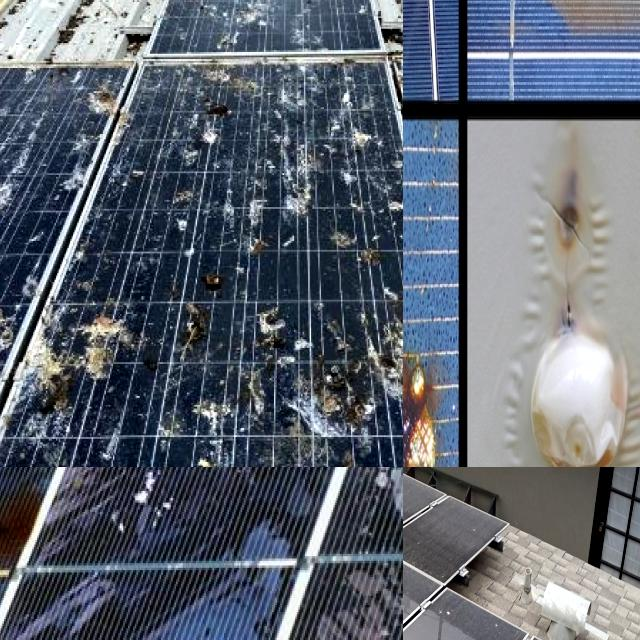bird: (64, 298, 130, 388), (165, 86, 245, 154), (336, 325, 403, 380), (89, 70, 140, 140), (258, 306, 304, 380), (332, 94, 392, 142), (168, 309, 213, 368), (278, 168, 320, 230), (326, 224, 379, 272), (189, 235, 229, 298), (195, 440, 263, 467), (0, 160, 25, 226), (0, 305, 32, 355), (373, 189, 403, 227)
dust: (403, 467, 440, 568)
shadow: (403, 117, 456, 467), (489, 0, 640, 97), (542, 168, 600, 284), (0, 475, 53, 592), (403, 325, 439, 467), (403, 0, 445, 93)
